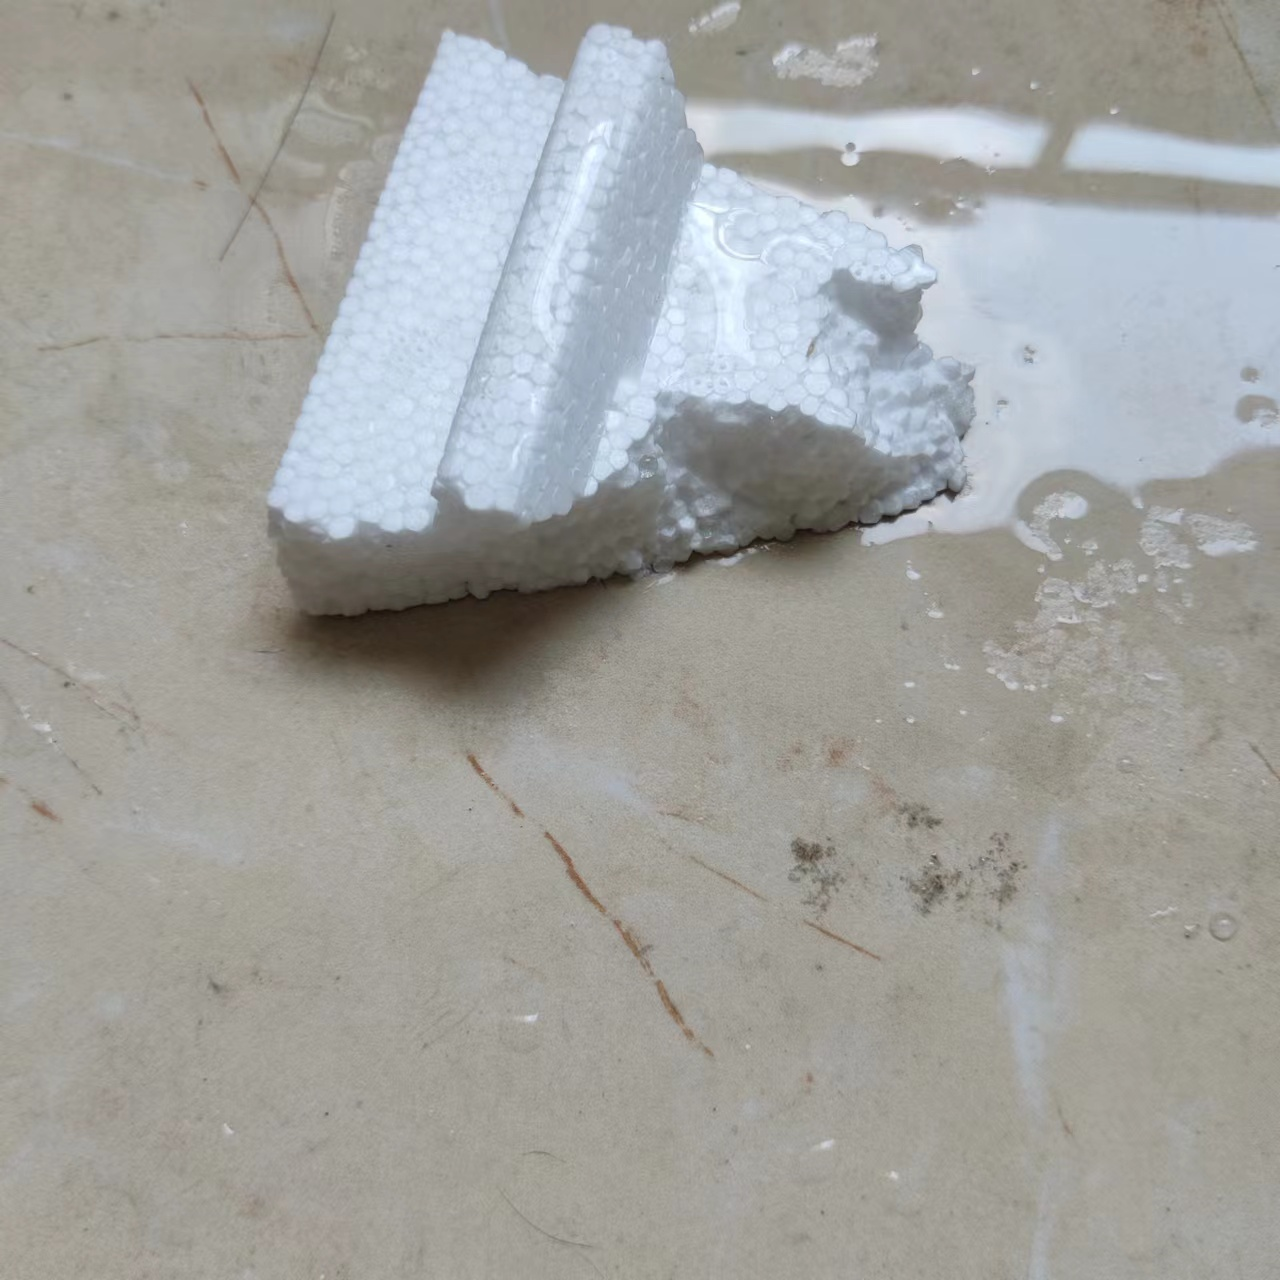5/可回收垃圾/泡沫: (268, 26, 975, 620)
